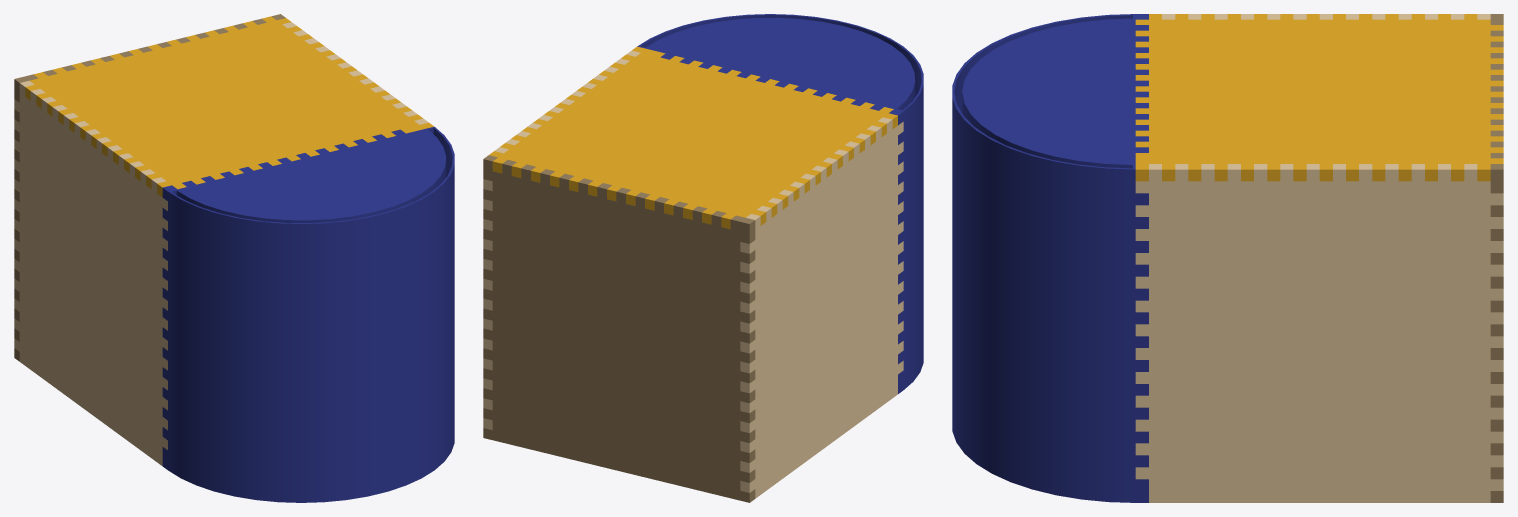
Rendered from obroom.obj.
3 renders of one model, left to right at view 1: azimuth 30°, elevation 25°; view 2: azimuth 150°, elevation 25°; view 3: azimuth 270°, elevation 25°, orthographic. The views are drawn at different scales.
Parts seen in each view (by area): view 1: Body82, Body43, Body56, Body1, Body69; view 2: Body1, Body43, Body56, Body82, Body69; view 3: Body69, Body82, Body56, Body1, Body43.
Part boxes in pixels (x1=…): Body82: x1=162, y1=126, x2=454, y2=502; Body43: x1=14, y1=81, x2=167, y2=465; Body56: x1=25, y1=16, x2=433, y2=197; Body1: x1=14, y1=14, x2=285, y2=361; Body69: x1=282, y1=22, x2=428, y2=124; Body1: x1=483, y1=155, x2=755, y2=502; Body43: x1=740, y1=117, x2=903, y2=498; Body56: x1=489, y1=46, x2=897, y2=229; Body82: x1=637, y1=14, x2=923, y2=393; Body69: x1=483, y1=50, x2=640, y2=430; Body69: x1=1135, y1=164, x2=1503, y2=502; Body82: x1=952, y1=14, x2=1148, y2=502; Body56: x1=1135, y1=14, x2=1503, y2=181; Body1: x1=1490, y1=14, x2=1503, y2=502; Body43: x1=1162, y1=14, x2=1490, y2=19.
Size of the model in its own units: 14 by 14 by 20.98.
